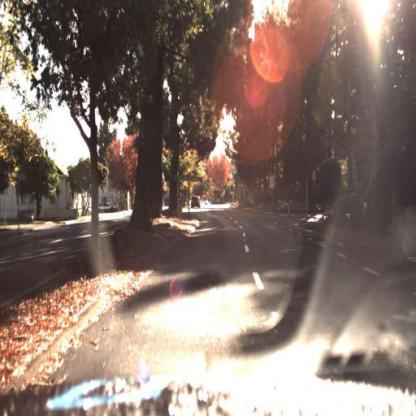car: (96, 201, 118, 216), (192, 193, 202, 211)
trafficLight: (229, 184, 239, 198)
trafficLight-Green: (206, 173, 212, 189)
